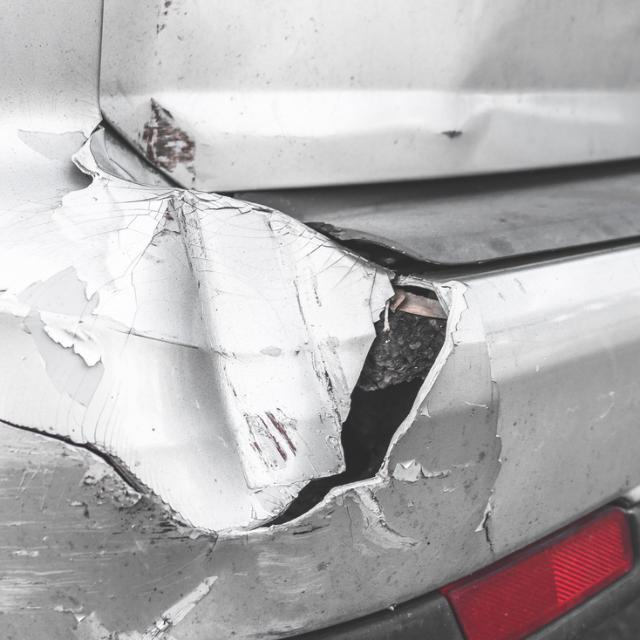Bumper: (12, 167, 344, 531)
